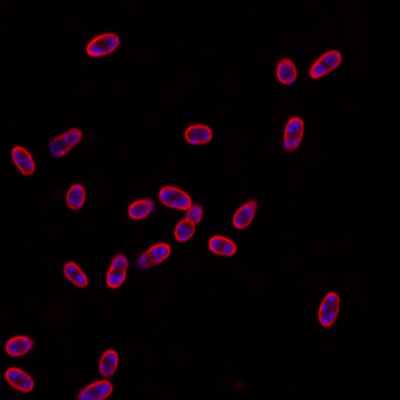MP265: (308, 49, 342, 80), (315, 290, 342, 329), (157, 184, 193, 211), (85, 32, 121, 58), (60, 259, 90, 289), (9, 144, 37, 176), (3, 366, 36, 393), (96, 347, 120, 379), (183, 122, 213, 147), (274, 55, 298, 86), (208, 234, 238, 256), (64, 183, 87, 210)
Oblique: (171, 203, 205, 242), (45, 125, 84, 158), (102, 251, 131, 290), (135, 242, 171, 271), (280, 116, 306, 154), (230, 196, 259, 229), (3, 334, 34, 359), (125, 199, 155, 221)
